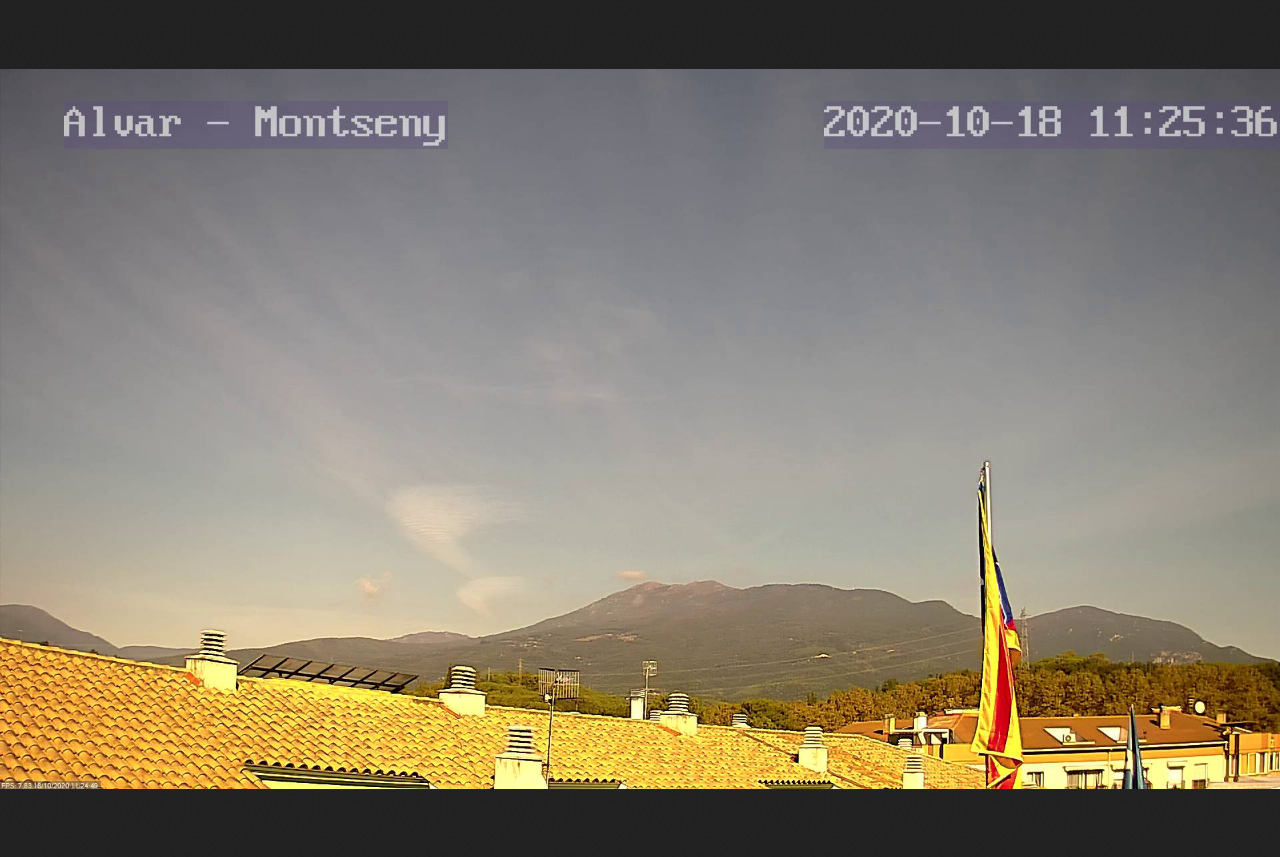no: (966, 464, 1037, 788)
